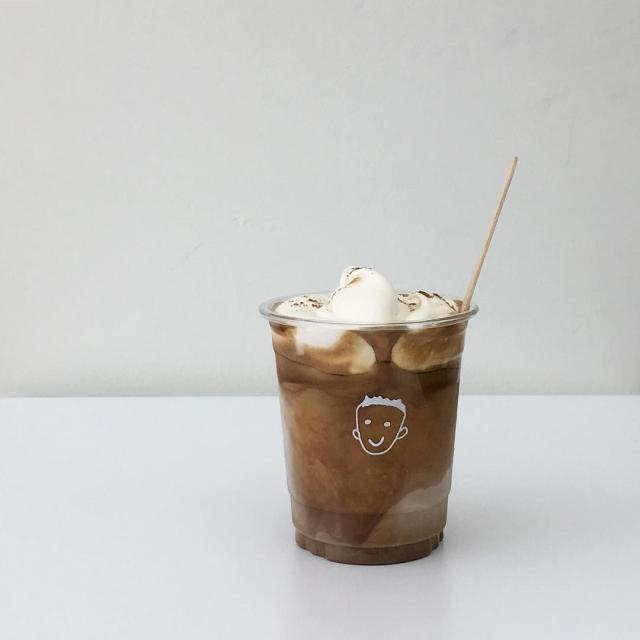plastic cup: (259, 266, 479, 566)
